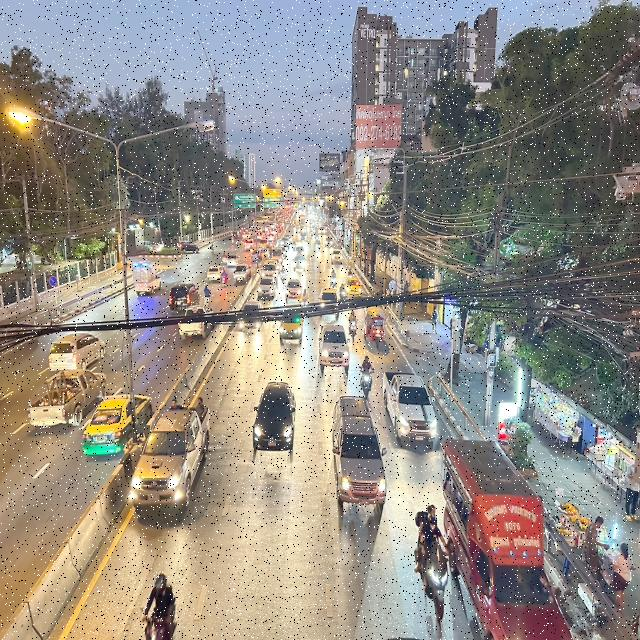bike: (409, 496, 458, 628), (356, 348, 377, 400)
